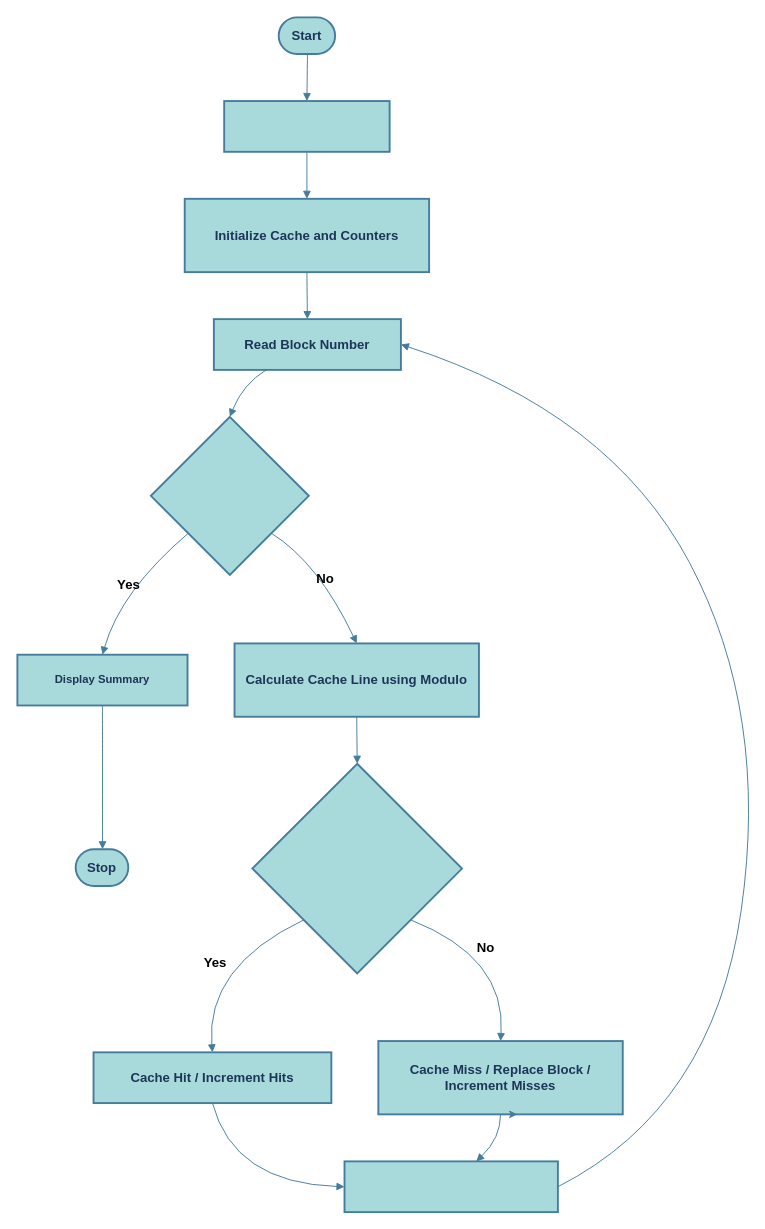
This 765x1229 diagram has some shape labels left out. The shapes that lost their labels are listed below. From the top down, each one's centre as x and y in pixels, then its label:
At point (306, 126): "Read Cache Size".
At point (229, 495): "Block equals -1?".
At point (356, 868): "Block Present in Cache?".
At point (450, 1186): "Display Cache Contents".
